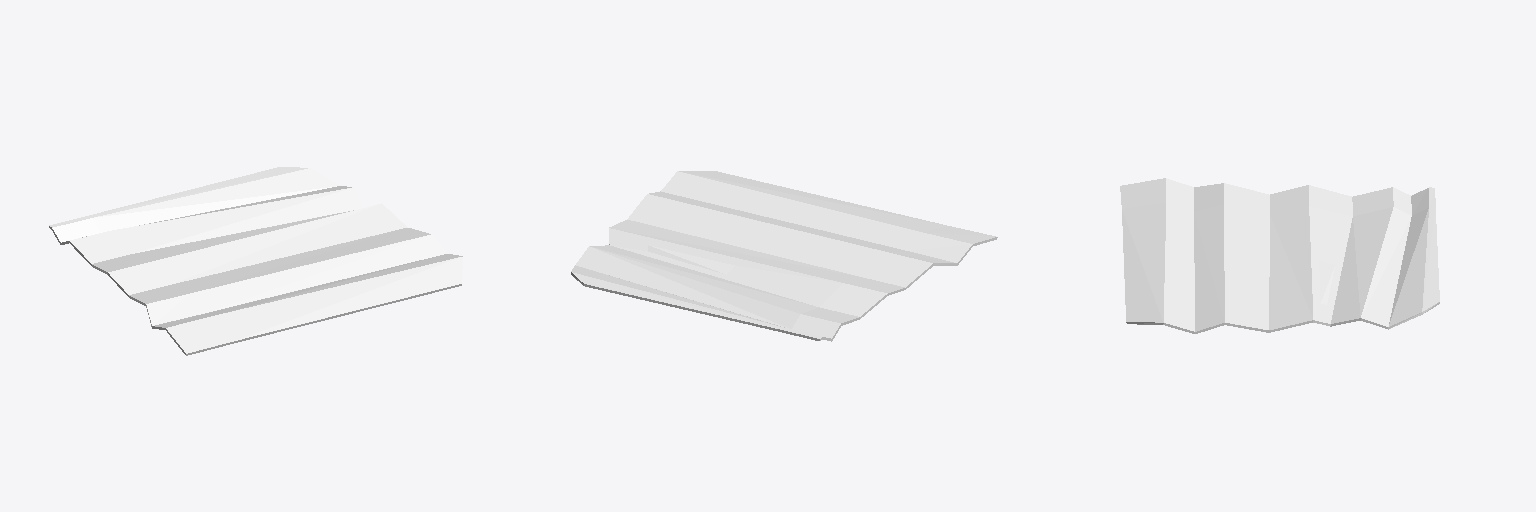
Rendered from rubbish7.obj.
3 views of the same model, side by side, from view 1: azimuth 30°, elevation 25°; view 2: azimuth 150°, elevation 25°; view 3: azimuth 270°, elevation 25° (orthographic).
Parts seen in each view (by area): view 1: def_surf_mat; view 2: def_surf_mat; view 3: def_surf_mat.
Part boxes in pixels (bbox=[...]): def_surf_mat: bbox=[49, 167, 462, 355]; def_surf_mat: bbox=[571, 171, 997, 341]; def_surf_mat: bbox=[1120, 178, 1439, 333].
Size of the model in its own units: 52.2 by 1.98 by 48.34.